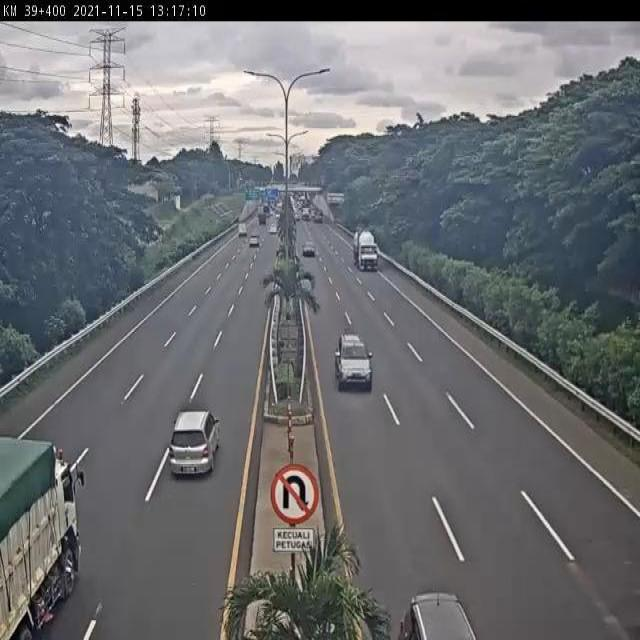ARABA: (168, 408, 223, 480), (333, 332, 374, 391)
KAMYONET: (0, 434, 84, 640)
TIR: (351, 227, 381, 274)
